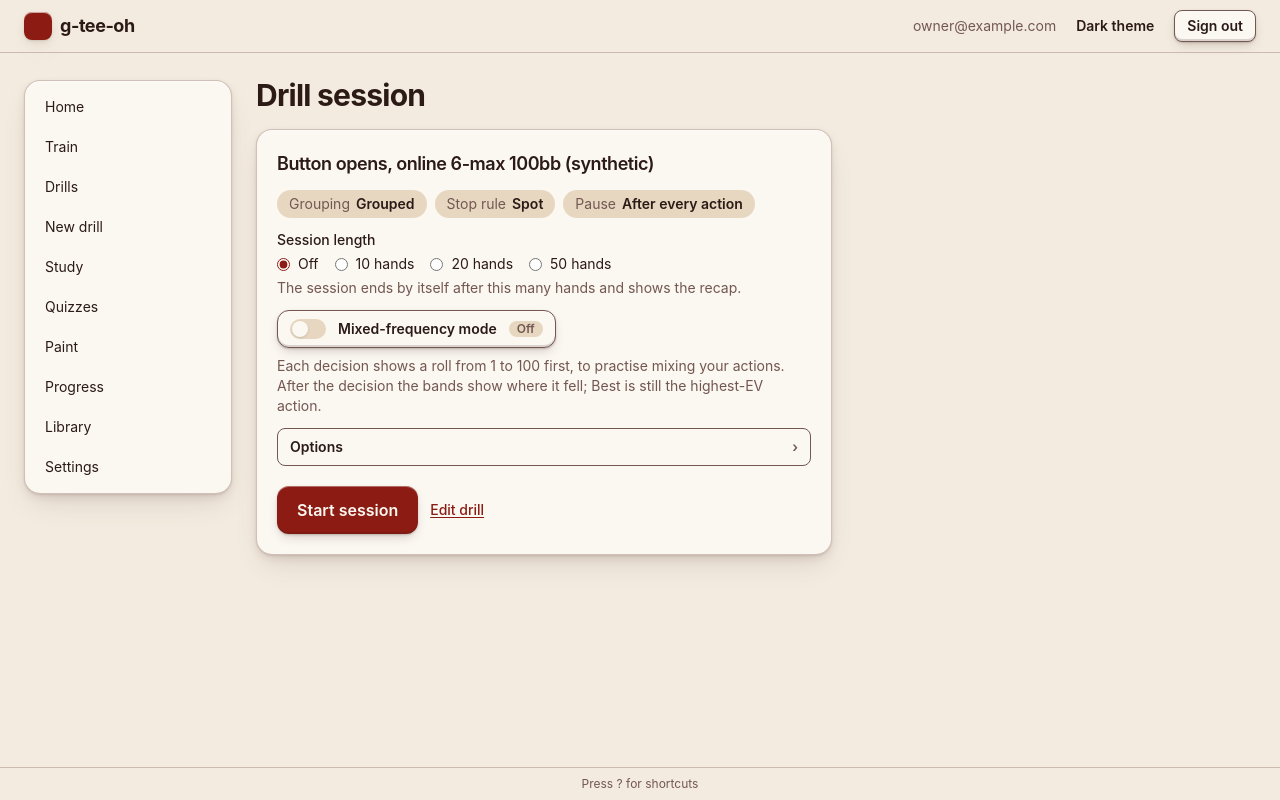
Test: R3.13 drill run route › R3.13 the seed search parameter is sent with the session start (O-288)
Click the button "Start session".
click(348, 510)  # box [277,486,418,534]
(page scrolled)
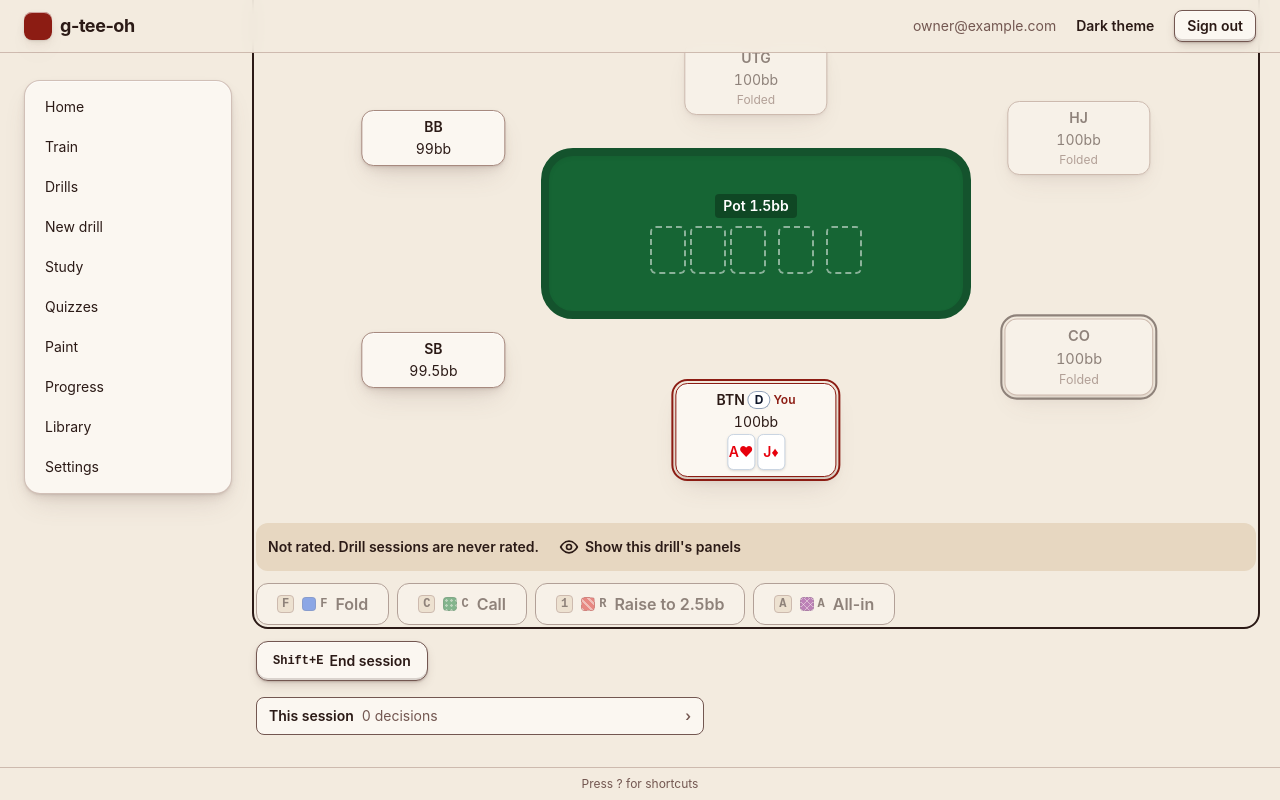
Expected: the element named "Actions" is shown, [256,583,895,625]
